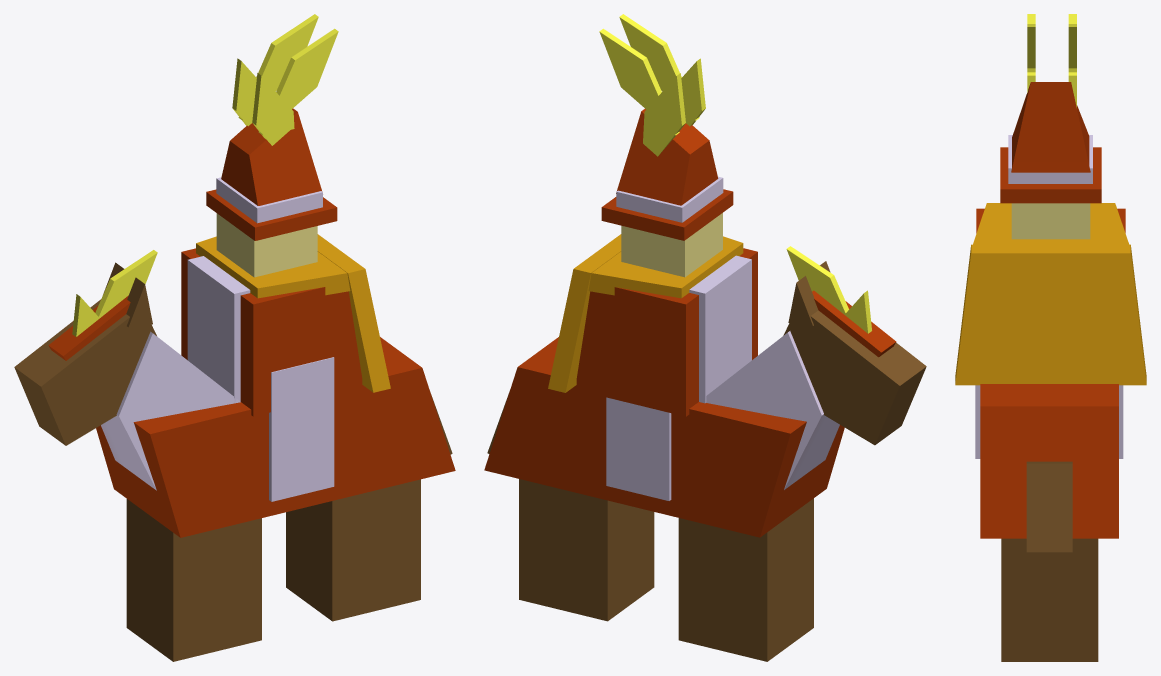
File: envoygeneral.fbx
The picture shows the model from 3 angles, left to right: view 1: azimuth 30°, elevation 25°; view 2: azimuth 150°, elevation 25°; view 3: azimuth 270°, elevation 25°; orthographic projection. The views are drawn at different scales.
Visible parts, largest first — view 1: polySurface215; view 2: polySurface215; view 3: polySurface215.
Part boxes in pixels (x1,y1,x2,y2): polySurface215: [14, 14, 455, 661]; polySurface215: [484, 14, 926, 661]; polySurface215: [955, 14, 1146, 661].
Bounding box in the file's own units: 44.37 × 59.2 × 17.09.
Materials: 1 (1 with a texture image).
